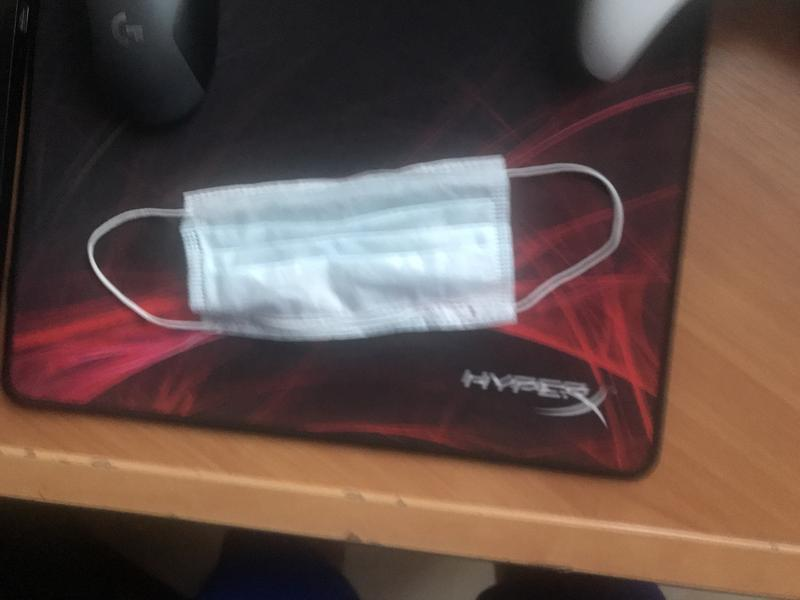medical_mask: (90, 156, 623, 339)
